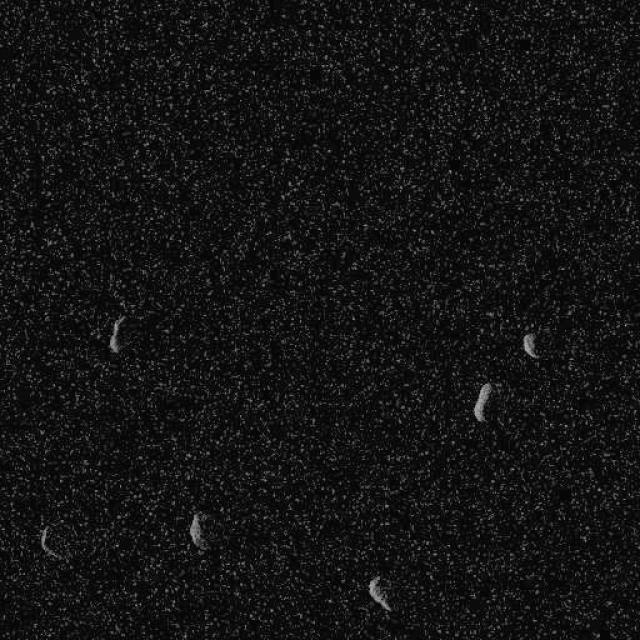D2: (367, 574, 392, 612), (39, 524, 61, 561), (472, 382, 492, 422), (108, 314, 126, 354), (187, 511, 205, 549), (521, 331, 540, 359)
